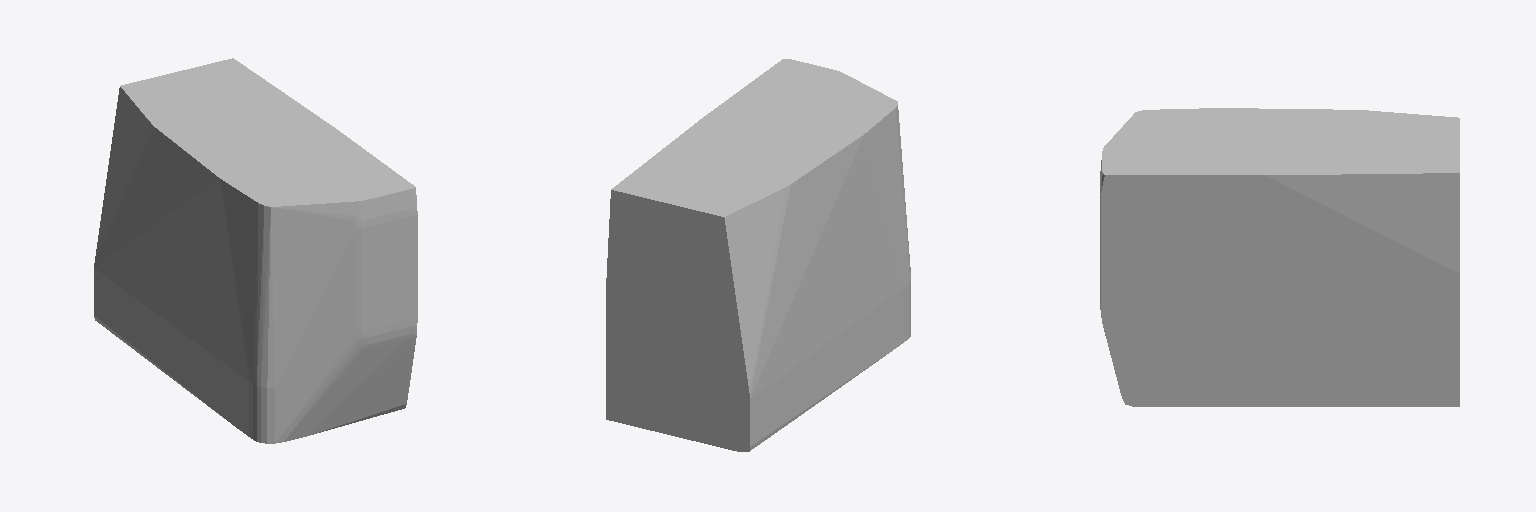
The model's file is Toaster_24_collision_1.obj.
3 views of the same model, side by side, from view 1: azimuth 30°, elevation 25°; view 2: azimuth 150°, elevation 25°; view 3: azimuth 270°, elevation 25° (orthographic).
Size of the model in its own units: 0.0689 by 0.1058 by 0.1489.